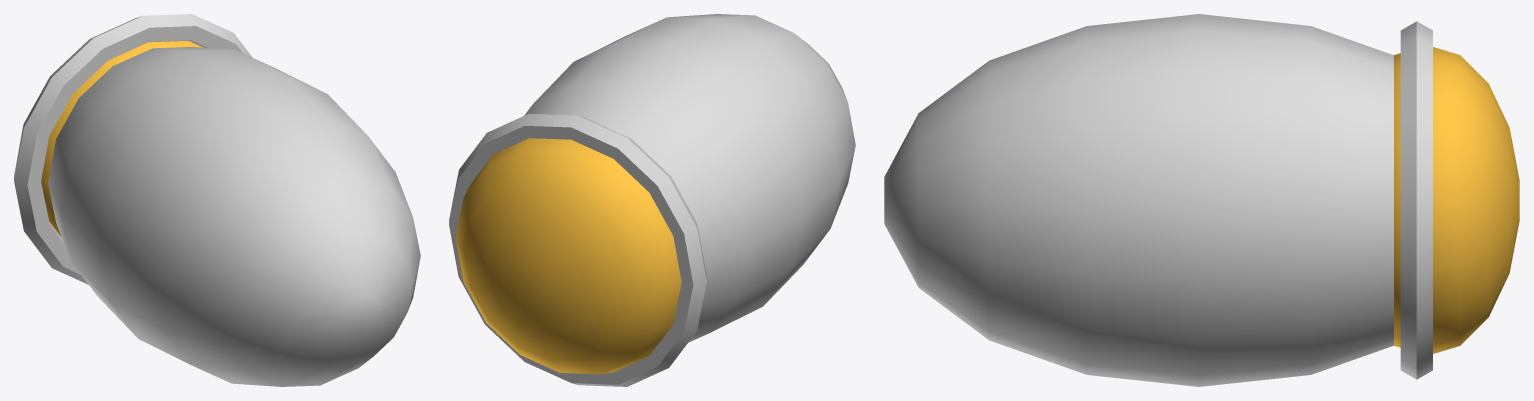
The model's file is bullet.glb.
3 renders of one model, left to right at view 1: azimuth 30°, elevation 25°; view 2: azimuth 150°, elevation 25°; view 3: azimuth 270°, elevation 25°, orthographic. The views are drawn at different scales.
Visible parts, largest first — view 1: lod0; view 2: lod0; view 3: lod0.
Part boxes in pixels (x1,y1,x2,y2): lod0: (14,14,420,386); lod0: (449,14,855,386); lod0: (884,14,1519,386).
Size of what is drawn, in the model's own units: 0.036 by 0.036 by 0.0613.
